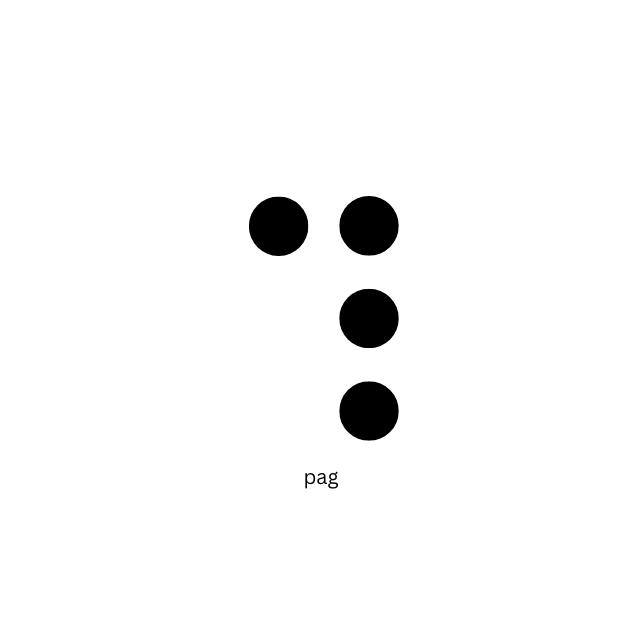one_cell_part_word_pag: (248, 194, 397, 441)
